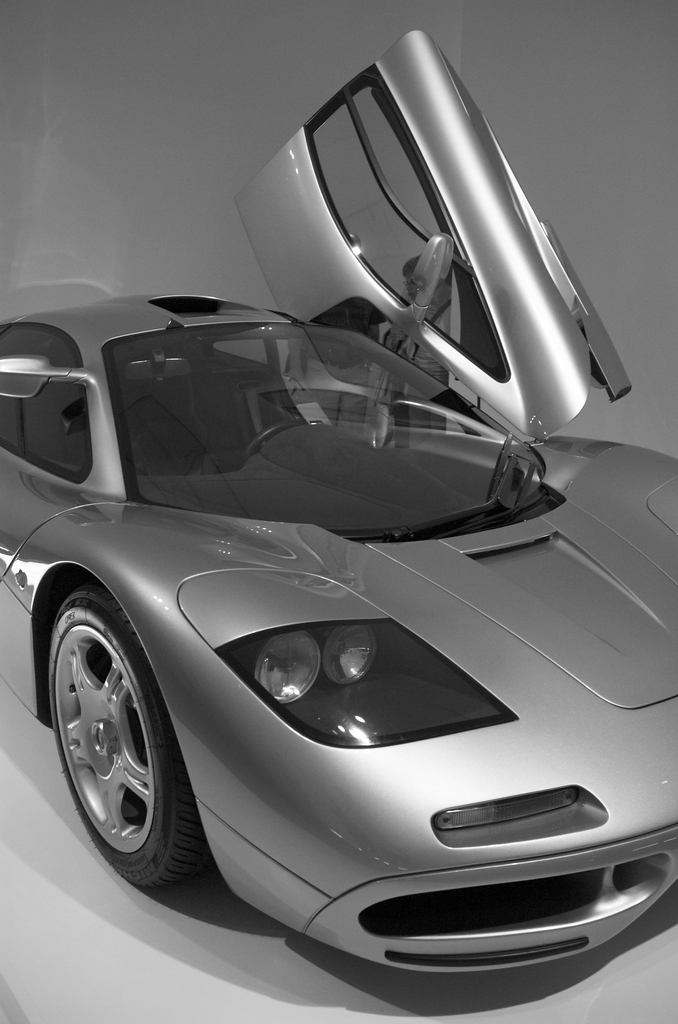Car: (0, 27, 677, 972)
